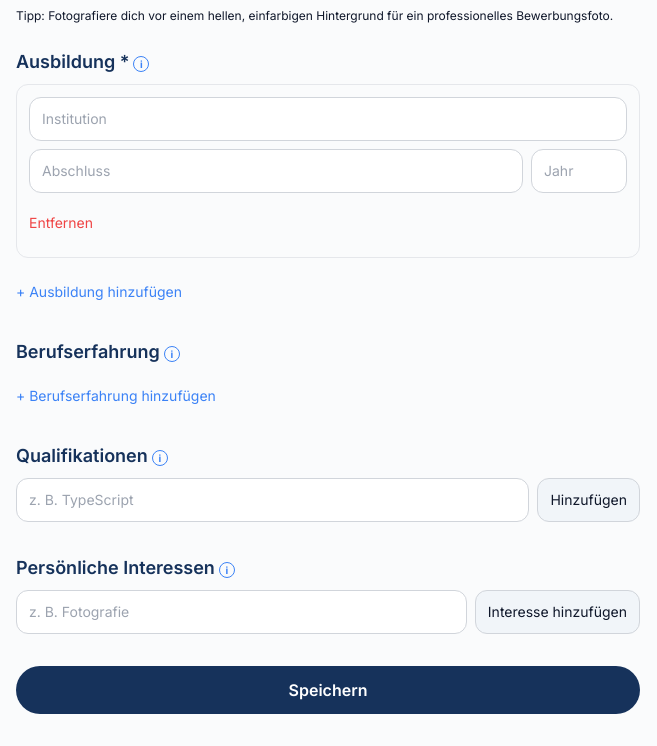
ProfileForm › zeigt Fehlermeldung wenn Speichern ohne Name versucht wird
(page scrolled)
Step 1. Click the button "Speichern" → {"x": 328, "y": 690}, box [16,666,640,714]
(page scrolled)
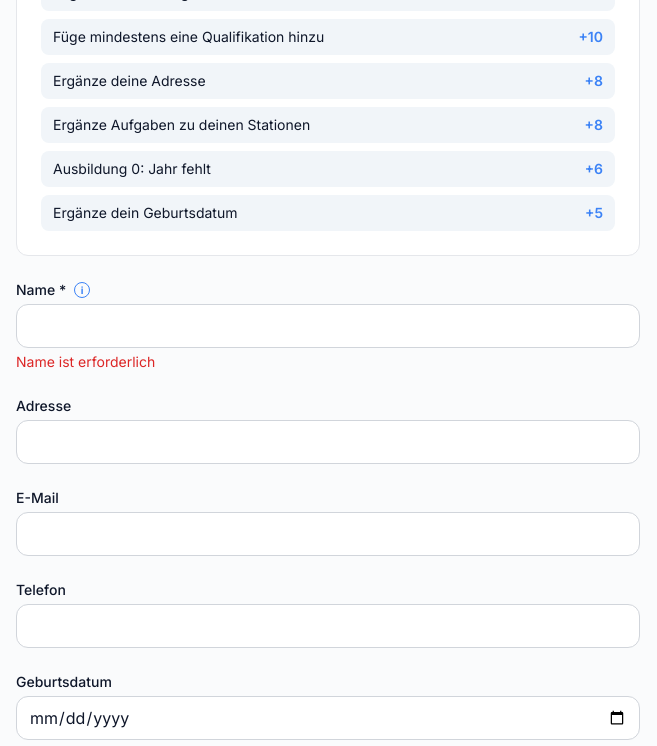
Check: the text "Name ist erforderlich" is shown, box [16,353,155,370]
